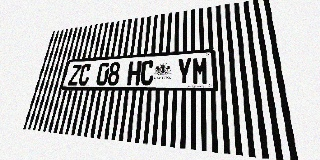0: (96, 62, 110, 85)
8: (107, 62, 121, 85)
C: (140, 60, 155, 85), (77, 64, 92, 85)
H: (127, 61, 142, 85)
M: (192, 57, 209, 85)
Y: (176, 58, 192, 85)
Z: (68, 64, 82, 86)
